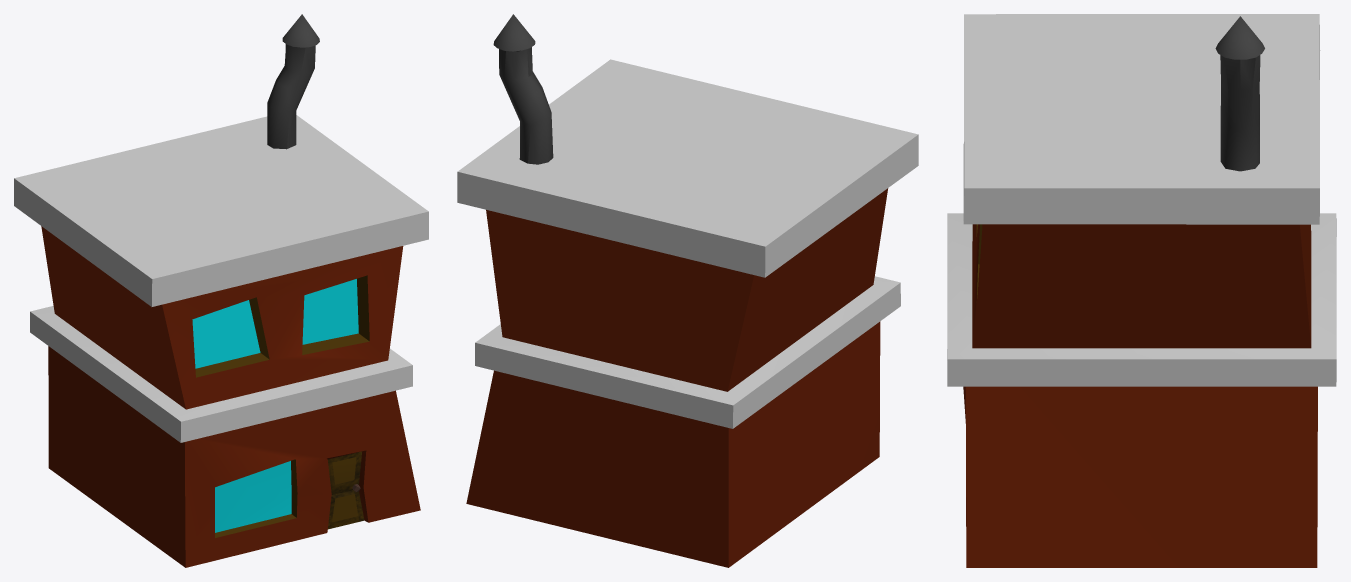
File: PredioPequeno-VermelhoEscuroLOD1.fbx
The picture shows the model from 3 angles, left to right: view 1: azimuth 30°, elevation 25°; view 2: azimuth 150°, elevation 25°; view 3: azimuth 270°, elevation 25°; orthographic projection. The views are drawn at different scales.
Visible parts, largest first — view 1: Predio2AndaresLOD1; view 2: Predio2AndaresLOD1; view 3: Predio2AndaresLOD1.
Part boxes in pixels (x1,y1,x2,y2): Predio2AndaresLOD1: [14, 14, 428, 567]; Predio2AndaresLOD1: [457, 14, 918, 567]; Predio2AndaresLOD1: [947, 14, 1336, 567].
Size of the model in its own units: 712 by 1035 by 672.
